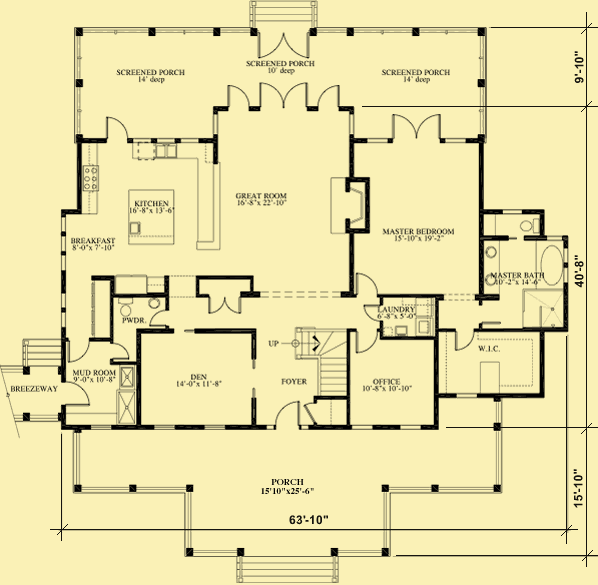door: (391, 112, 444, 146), (255, 29, 313, 59), (257, 82, 313, 113), (60, 379, 95, 410), (102, 112, 130, 145), (205, 294, 245, 316), (272, 400, 303, 428), (224, 85, 254, 111), (65, 334, 90, 364), (316, 84, 345, 109), (352, 271, 379, 296), (106, 338, 133, 362), (454, 328, 476, 353)
large_sink: (514, 216, 543, 237), (116, 297, 137, 319)
small_sink: (478, 239, 503, 299)
stairs: (291, 317, 355, 401), (17, 334, 63, 366)
tub: (531, 238, 566, 288)
